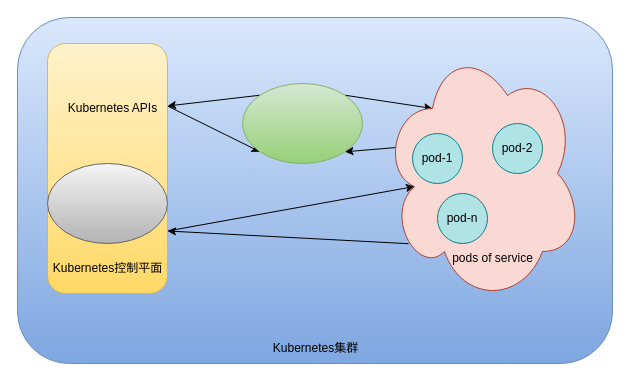
Some shapes in this 630 by 381 pixel diagram are drawn without their labels. Each missing label, with the centre of its shape:
Service Deployment: the point at 107,203
基于时序建模的Kubernetes水平扩缩容系统: the point at 302,123
